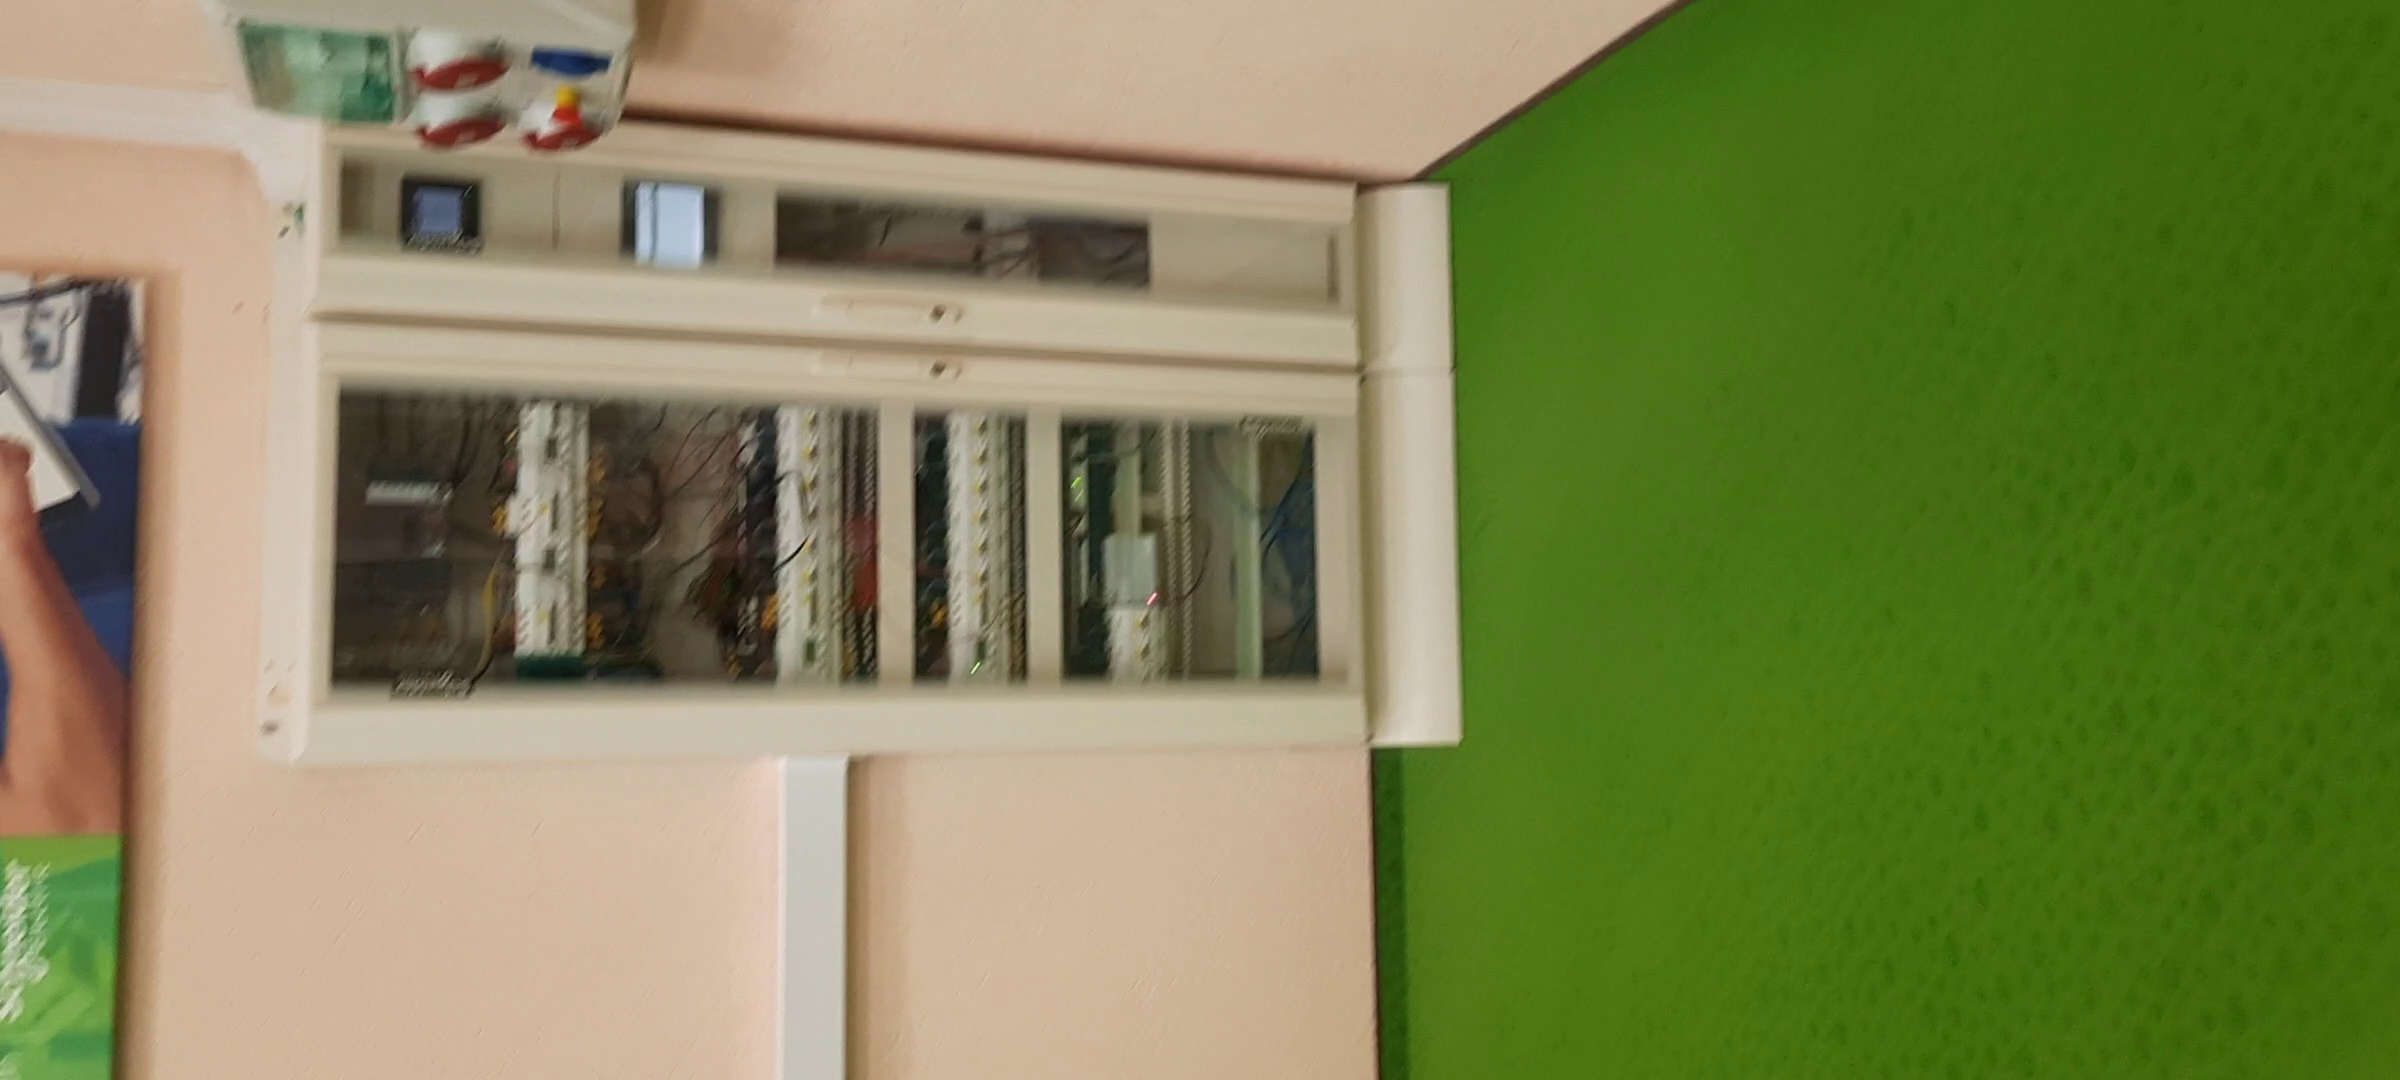stand1: (279, 170, 1463, 763)
